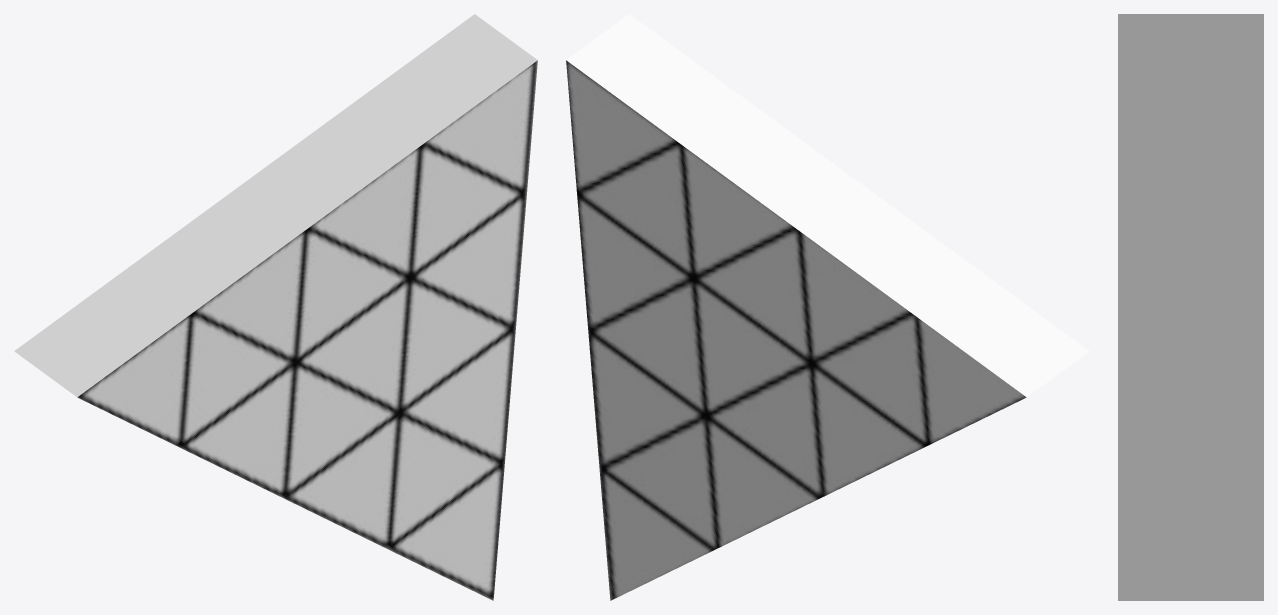
File: three.glb
3 renders of one model, left to right at view 1: azimuth 30°, elevation 25°; view 2: azimuth 150°, elevation 25°; view 3: azimuth 270°, elevation 25°, orthographic. The views are drawn at different scales.
Visible parts, largest first — view 1: 원형.003; view 2: 원형.003; view 3: 원형.003.
Part boxes in pixels (left/top/right/bottom): 원형.003: left=14, top=14, right=537, bottom=600; 원형.003: left=566, top=14, right=1089, bottom=600; 원형.003: left=1118, top=14, right=1263, bottom=600.
Bounding box in the file's own units: 1.1 × 1.21 × 0.2607.
Materials: 2 (2 with a texture image).
